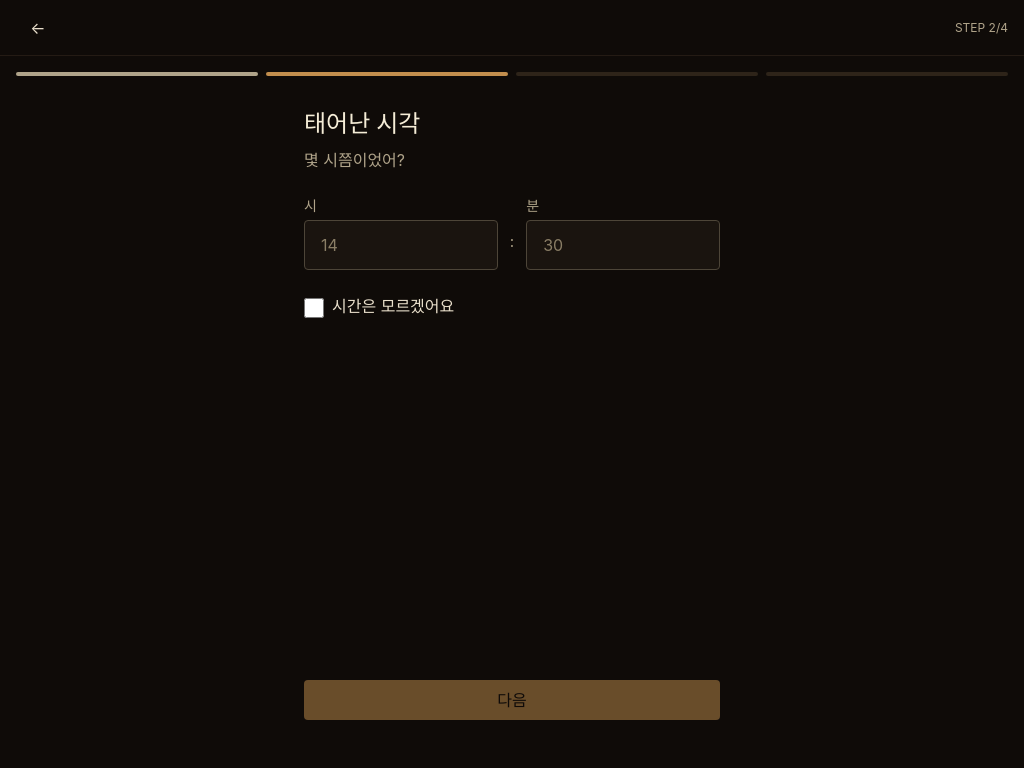
Test: /onboarding/birth-time — Screen 3 (ISSUE-028) › AC2: checking "시간 모름" disables the hour + minute inputs and sets store flag
Check: the number field labelled "시" is enabled, box [304, 220, 498, 270]
Check: the number field labelled "분" is enabled, box [526, 220, 720, 270]
Click the checkbox labelled "시간은 모르겠어요" at (314, 308), box [304, 298, 324, 318]
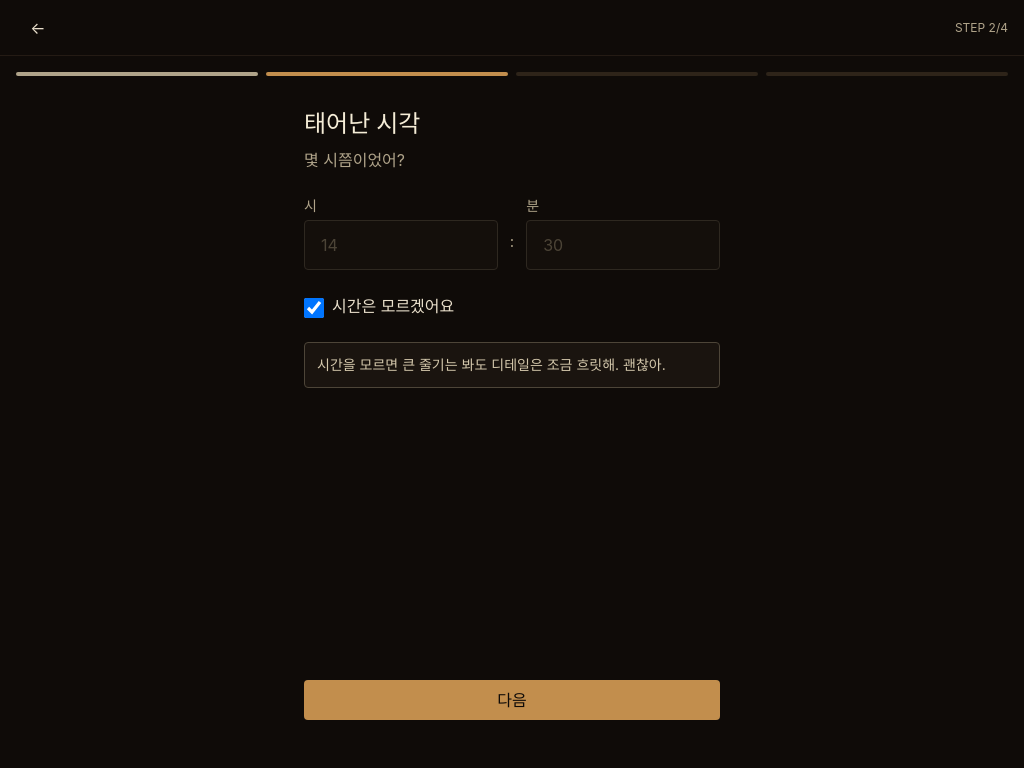
Check: the number field labelled "시" is disabled, box [304, 220, 498, 270]
Check: the number field labelled "분" is disabled, box [526, 220, 720, 270]
